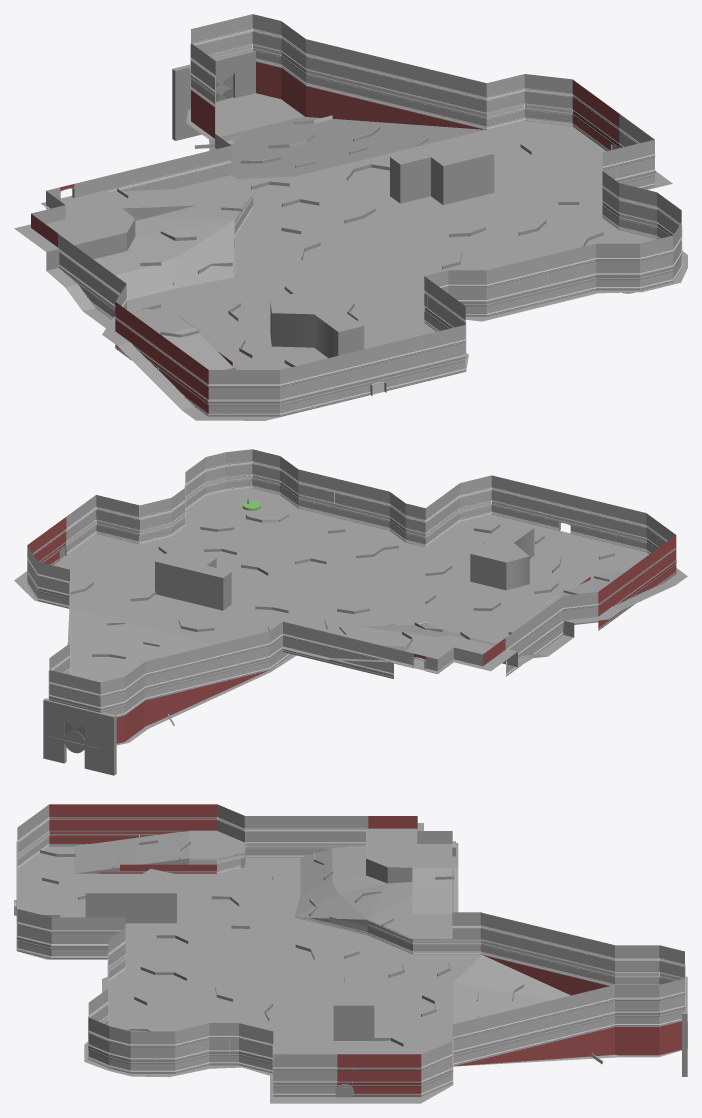
The model's file is CombatBowlPass3.fbx.
3 renders of one model, top to bottom at view 1: azimuth 30°, elevation 25°; view 2: azimuth 150°, elevation 25°; view 3: azimuth 270°, elevation 25°, orthographic. The views are drawn at different scales.
Parts seen in each view (by area): view 1: pPlane1, polySurface465, pCube89, pCube90, polySurface88, polySurface402, Door_Test:pCylinder24, polySurface621, polySurface770, polySurface771, polySurface481, polySurface772 (+9 smaller); view 2: pPlane1, polySurface509, Door_Test:pCylinder24, pCube89, pCube90, polySurface402, polySurface88, polySurface770, polySurface675, polySurface481, polySurface772, polySurface765 (+5 smaller); view 3: pPlane1, polySurface465, polySurface88, polySurface509, polySurface770, pCube90, polySurface357, polySurface765, pCube89, polySurface621, polySurface474, polySurface508 (+13 smaller).
Boxes of the visible parts, left/top/right/bottom form: pPlane1: left=14, top=93, right=687, bottom=420; polySurface465: left=306, top=39, right=486, bottom=129; pCube89: left=390, top=137, right=494, bottom=205; pCube90: left=270, top=288, right=364, bottom=357; polySurface88: left=115, top=302, right=208, bottom=416; polySurface402: left=98, top=145, right=231, bottom=192; Door_Test:pCylinder24: left=172, top=49, right=256, bottom=140; polySurface621: left=306, top=86, right=485, bottom=129; polySurface770: left=58, top=234, right=126, bottom=319; polySurface771: left=524, top=74, right=572, bottom=126; polySurface481: left=191, top=14, right=252, bottom=59; polySurface772: left=486, top=74, right=524, bottom=129; pPlane1: left=14, top=488, right=687, bottom=748; polySurface509: left=145, top=631, right=270, bottom=700; Door_Test:pCylinder24: left=43, top=698, right=116, bottom=775; pCube89: left=155, top=548, right=231, bottom=610; pCube90: left=470, top=523, right=534, bottom=590; polySurface402: left=283, top=621, right=393, bottom=678; polySurface88: left=598, top=535, right=676, bottom=630; polySurface770: left=506, top=596, right=563, bottom=676; polySurface675: left=145, top=671, right=266, bottom=726; polySurface481: left=49, top=670, right=100, bottom=712; polySurface772: left=38, top=562, right=69, bottom=608; polySurface765: left=66, top=495, right=96, bottom=554; pPlane1: left=16, top=823, right=687, bottom=1103; polySurface465: left=452, top=985, right=615, bottom=1066; polySurface88: left=49, top=804, right=216, bottom=846; polySurface509: left=480, top=912, right=615, bottom=985; polySurface770: left=244, top=816, right=368, bottom=857; pCube90: left=85, top=868, right=176, bottom=923; polySurface357: left=352, top=1054, right=421, bottom=1096; polySurface765: left=273, top=1054, right=337, bottom=1096; pCube89: left=333, top=970, right=374, bottom=1040; polySurface621: left=454, top=1027, right=614, bottom=1066; polySurface474: left=615, top=984, right=659, bottom=1026; polySurface508: left=615, top=945, right=659, bottom=984.
Size of the model in its own units: 3449 by 584 by 3730.
